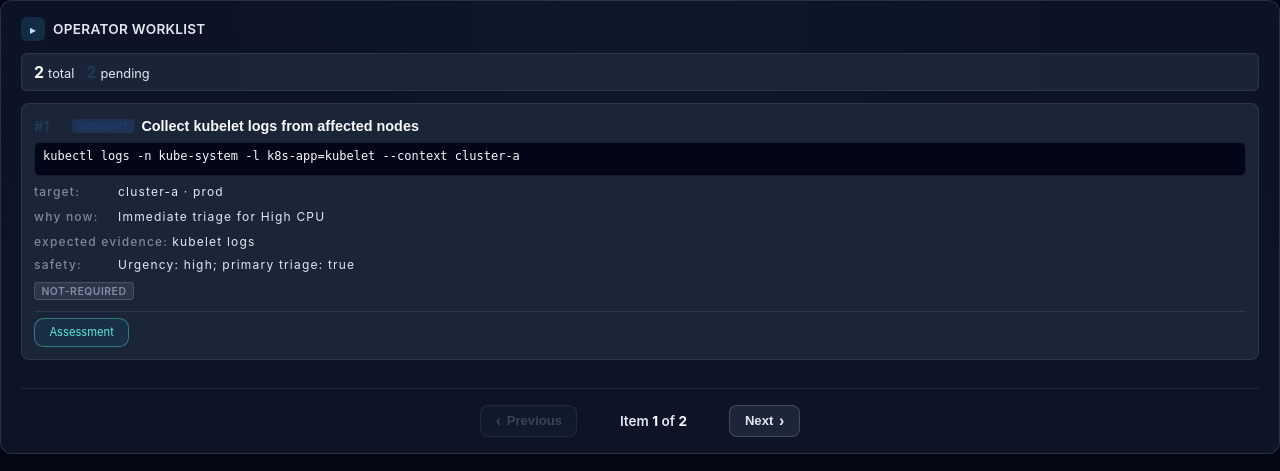
it: OperatorWorklistCard › 6. Operator worklist renders 'No executable command yet' when command is null
// Navigate to page 2 to see the second item (which has null command)
Click the button with aria-label "worklist next page" at [765, 421], box [730, 405, 800, 437]
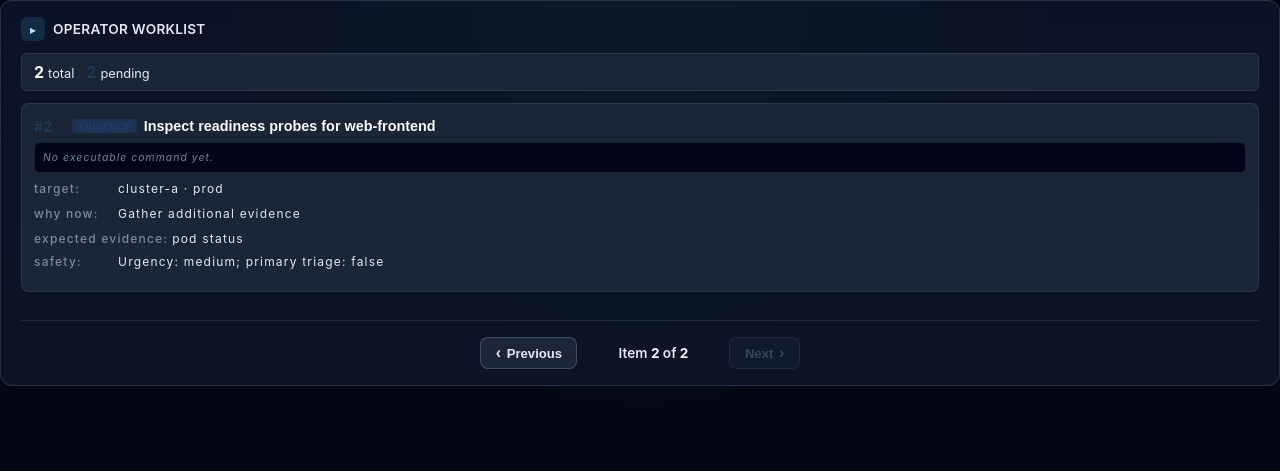
Check: the list item with test id "worklist-item-2" is shown, box [21, 103, 1259, 292]
Check: the text "No executable command yet." is shown, box [43, 151, 214, 164]
